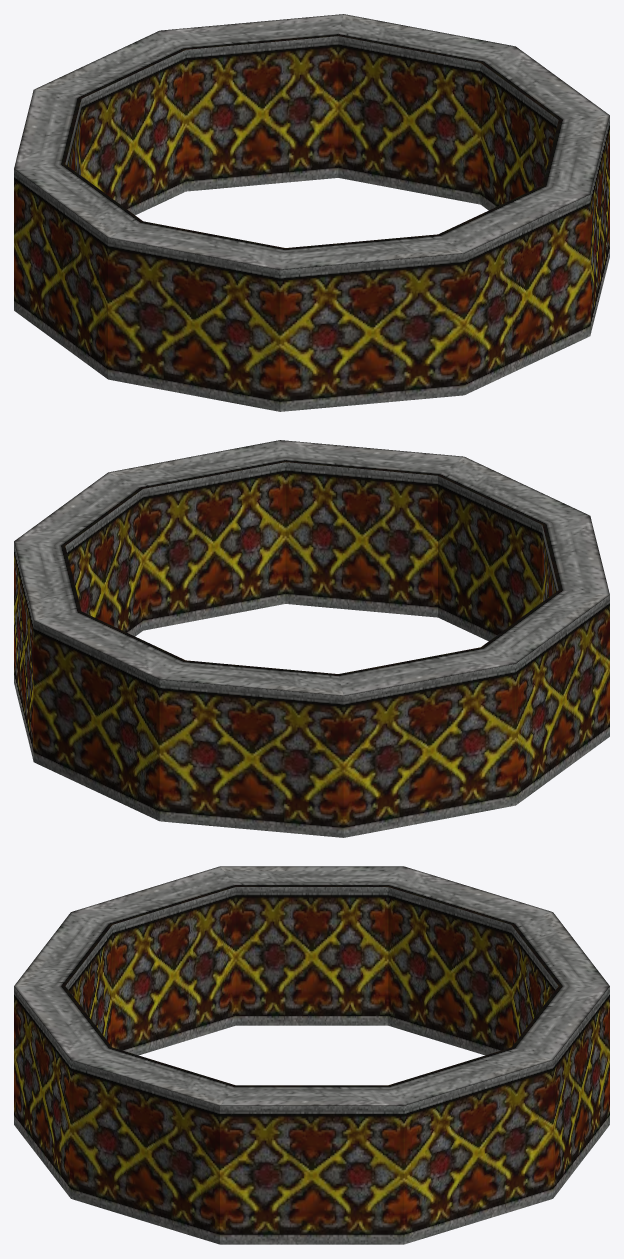
Rendered from ITRI_HP_01.glb.
3 renders of one model, top to bottom at view 1: azimuth 30°, elevation 25°; view 2: azimuth 150°, elevation 25°; view 3: azimuth 270°, elevation 25°, orthographic. The views are drawn at different scales.
Visible parts, largest first — view 1: ITRI_HP_01; view 2: ITRI_HP_01; view 3: ITRI_HP_01.
Boxes of the visible parts, bbox=[...] form: ITRI_HP_01: bbox=[14, 14, 609, 411]; ITRI_HP_01: bbox=[14, 440, 609, 837]; ITRI_HP_01: bbox=[14, 866, 609, 1244].
Size of the model in its own units: 0.0624 by 0.0169 by 0.0657.
1 material, 1 textured.
